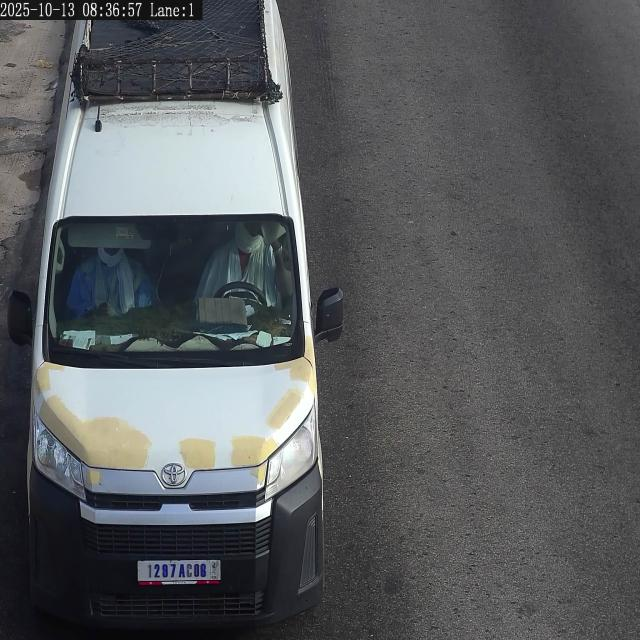BUS: (138, 560, 220, 584)
